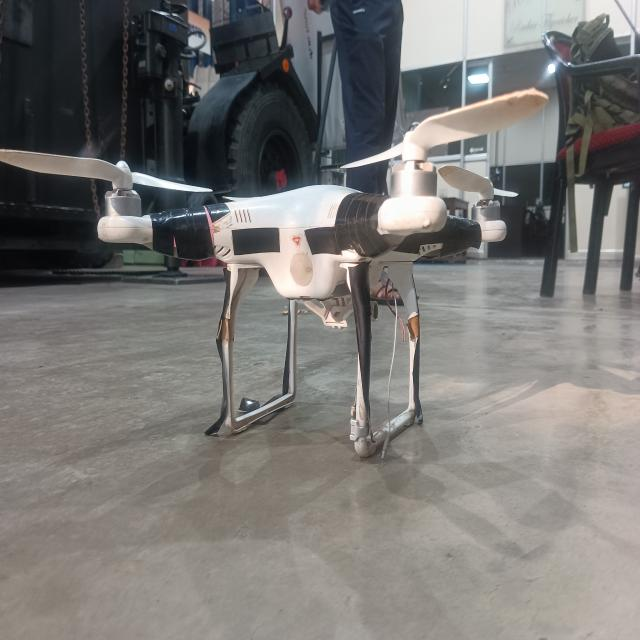drone: (0, 88, 569, 487)
